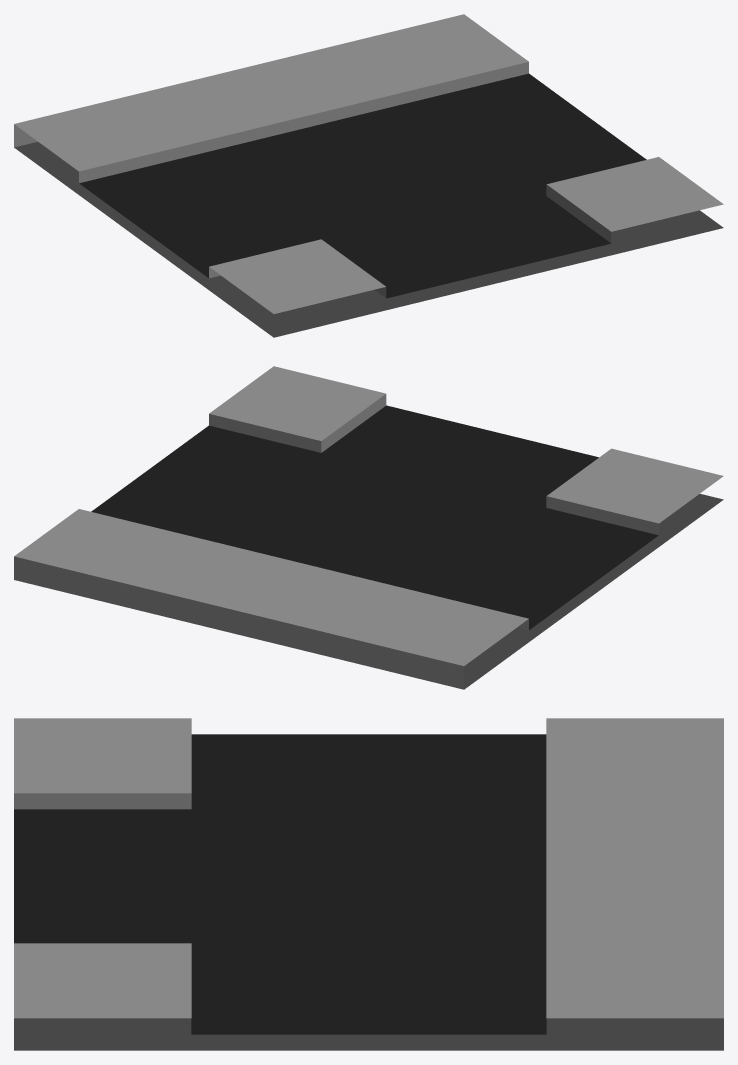
Rendered from Road04.fbx.
3 renders of one model, top to bottom at view 1: azimuth 30°, elevation 25°; view 2: azimuth 150°, elevation 25°; view 3: azimuth 270°, elevation 25°, orthographic. The views are drawn at different scales.
Visible parts, largest first — view 1: Road04; view 2: Road04; view 3: Road04.
Boxes of the visible parts, x1,y1,x2,y2 form: Road04: (14,14,723,337); Road04: (14,366,723,689); Road04: (14,718,723,1050).
Bounding box in the file's own units: 400 × 20 × 400.
